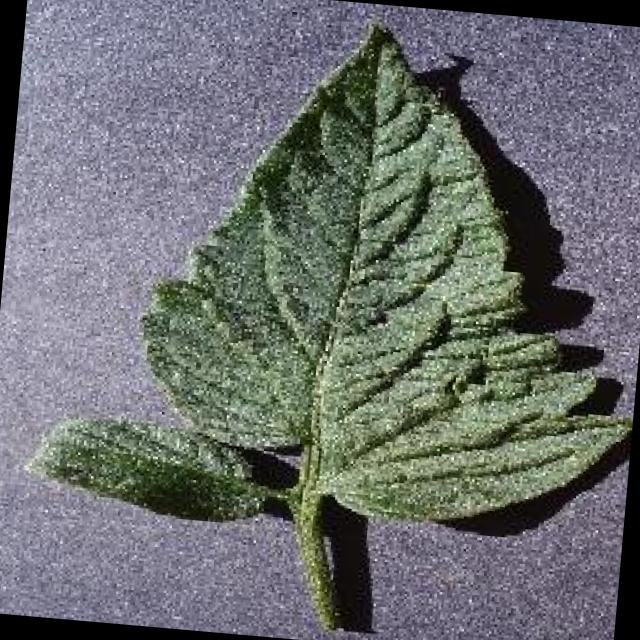Tomato_Healthy: (86, 14, 639, 556)
